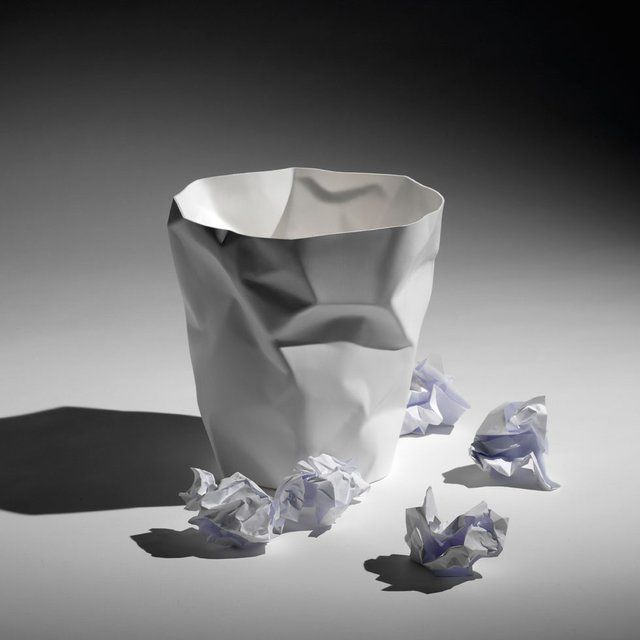paper: (250, 389, 405, 584), (381, 464, 551, 612), (445, 339, 585, 518), (373, 318, 512, 483), (148, 433, 293, 579)
